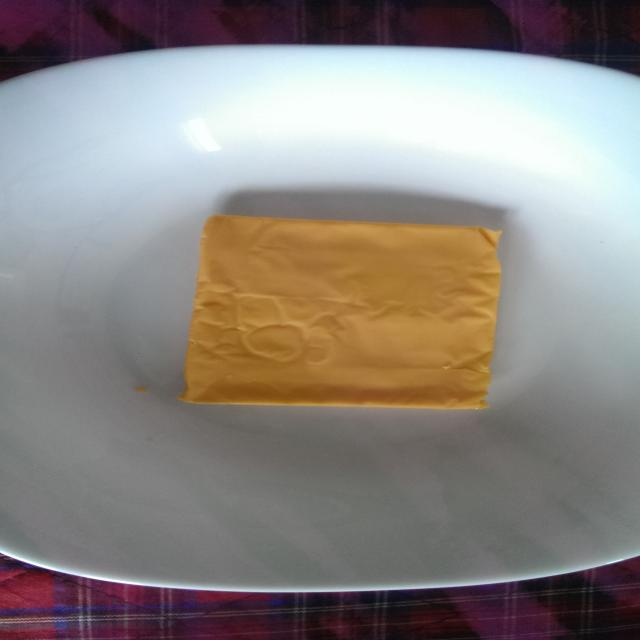cheese: (182, 195, 517, 416)
